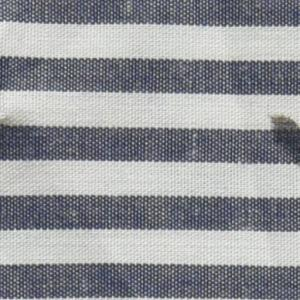Stain: (265, 110, 300, 167)
